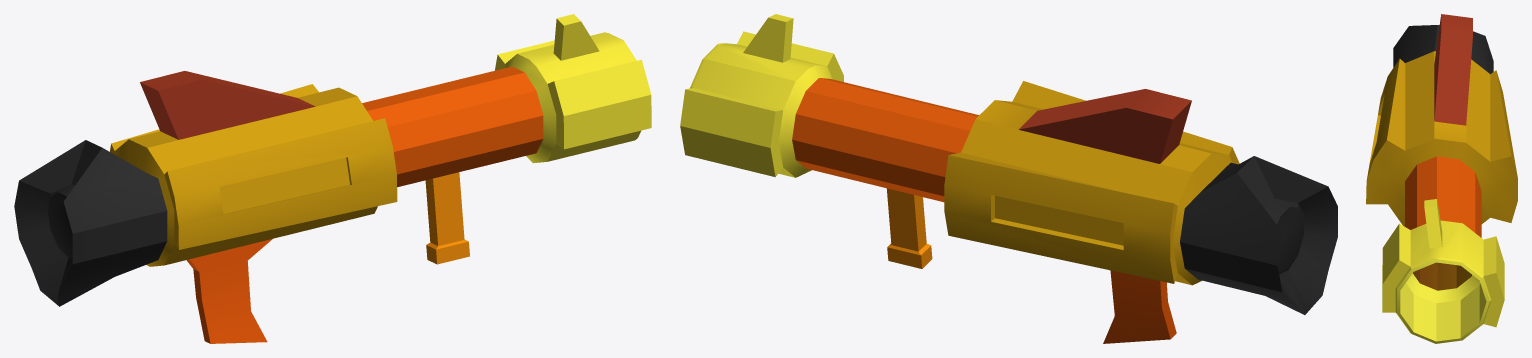
The model's file is NAPALM BOMB (2).fbx.
3 renders of one model, left to right at view 1: azimuth 30°, elevation 25°; view 2: azimuth 150°, elevation 25°; view 3: azimuth 270°, elevation 25°, orthographic. The views are drawn at different scales.
Parts seen in each view (by area): view 1: Cylinder.006; view 2: Cylinder.006; view 3: Cylinder.006.
Part boxes in pixels (bbox=[...]): Cylinder.006: bbox=[14, 14, 651, 343]; Cylinder.006: bbox=[680, 14, 1337, 343]; Cylinder.006: bbox=[1366, 14, 1517, 343].
Bounding box in the file's own units: 94.92 × 41.76 × 25.23.
1 material, 1 textured.
